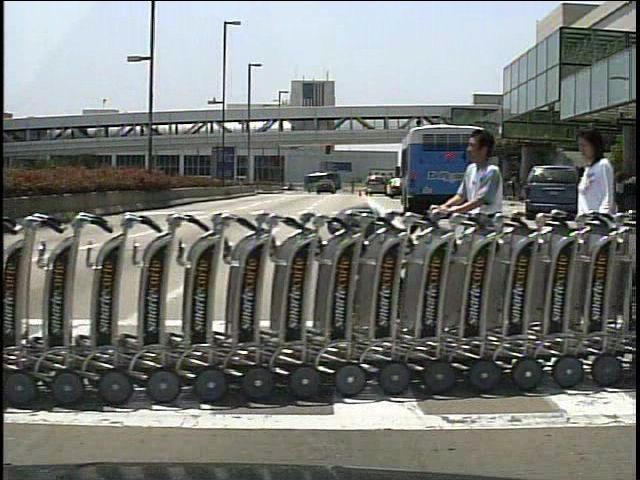person: (430, 124, 524, 365), (562, 116, 622, 330), (581, 165, 602, 215), (577, 163, 596, 218), (350, 176, 358, 196)
